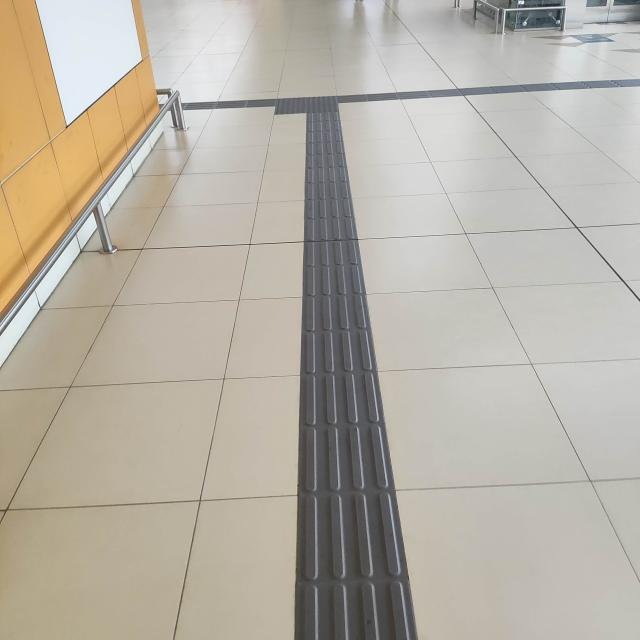lurus: (274, 127, 413, 640)
